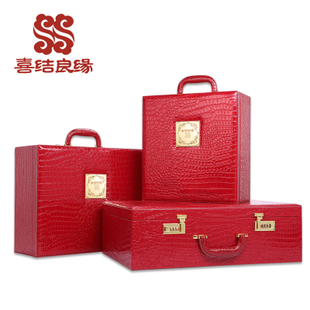shoutibox: (141, 74, 252, 205)
